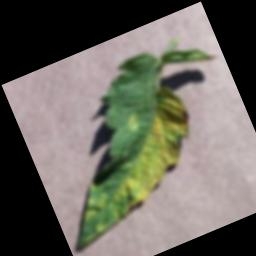Leaf_Mold: (75, 81, 215, 219), (72, 179, 111, 222)
